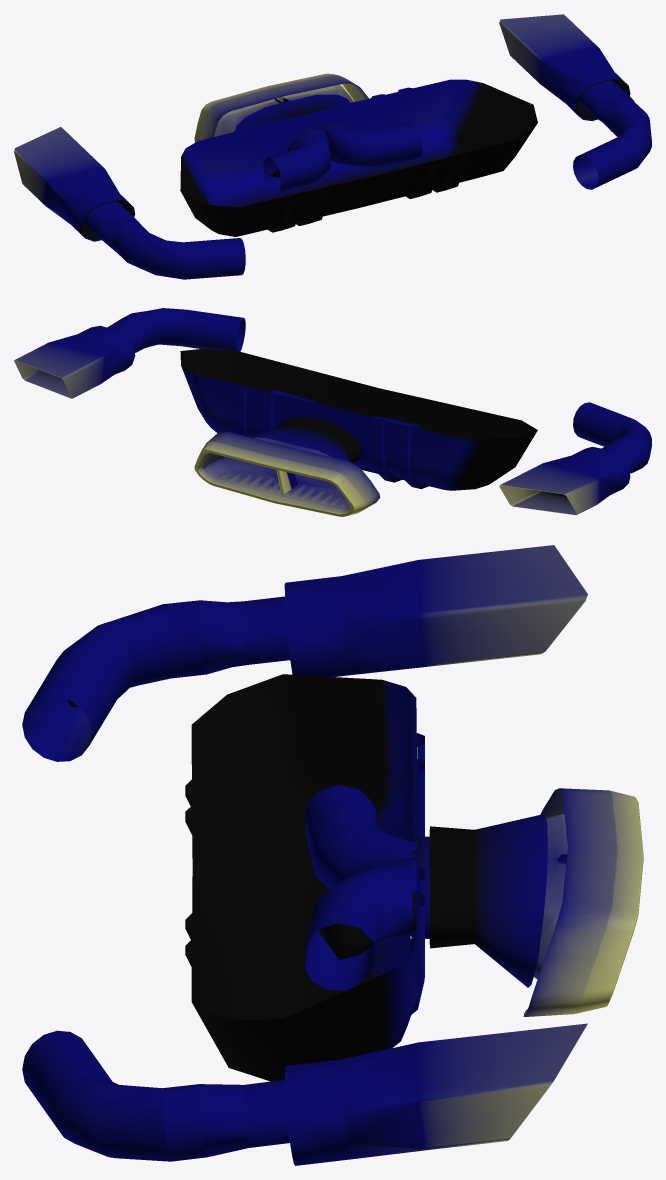
Rendered from Car_MercedesBenz_AMGGT_2015_Exhausts_SetGTR.fbx.
3 renders of one model, top to bottom at view 1: azimuth 30°, elevation 25°; view 2: azimuth 150°, elevation 25°; view 3: azimuth 270°, elevation 25°, orthographic. The views are drawn at different scales.
Visible parts, largest first — view 1: Exhausts 6; view 2: Exhausts 6; view 3: Exhausts 6.
Boxes of the visible parts, box(x1,y1,x2,y2) form: Exhausts 6: box(14, 14, 651, 279); Exhausts 6: box(14, 308, 651, 516); Exhausts 6: box(22, 545, 643, 1165).
Bounding box in the file's own units: 1.17 × 0.1656 × 0.5684.
